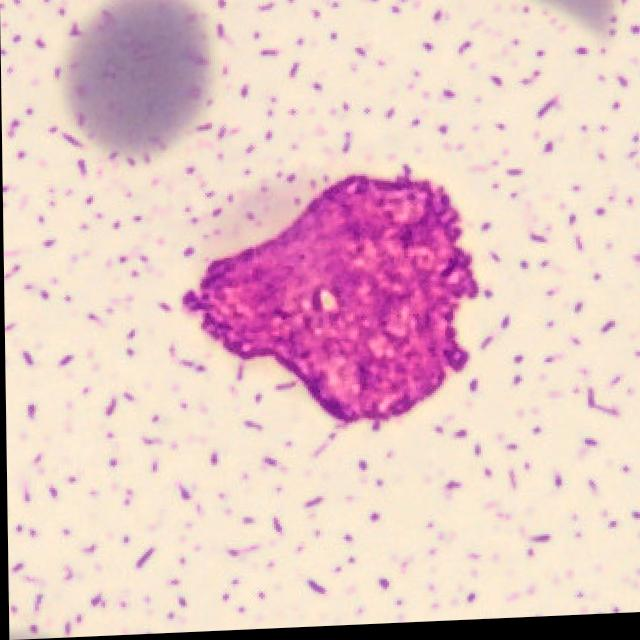Restos celulares: (182, 182, 482, 432)
